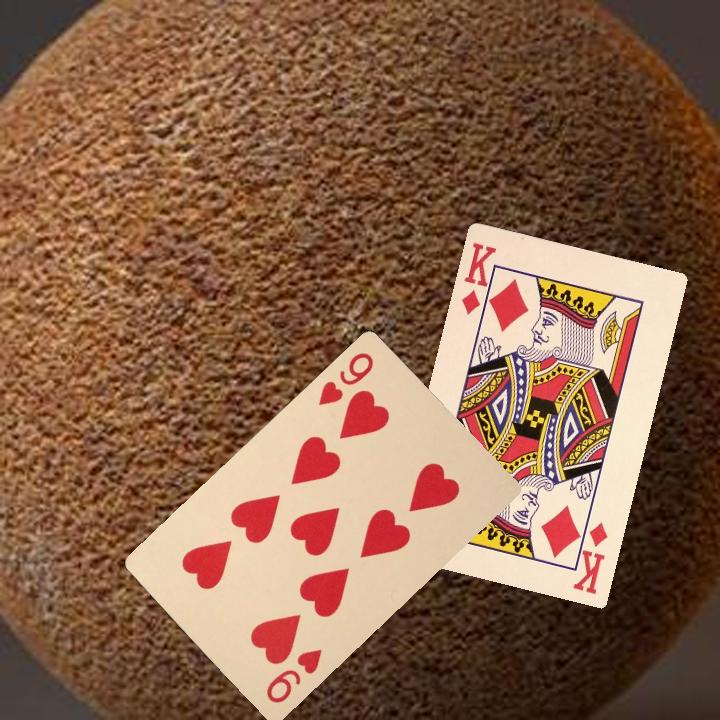9h: (262, 645, 325, 706), (314, 348, 376, 408)
Kd: (457, 238, 503, 318), (569, 509, 610, 597)
